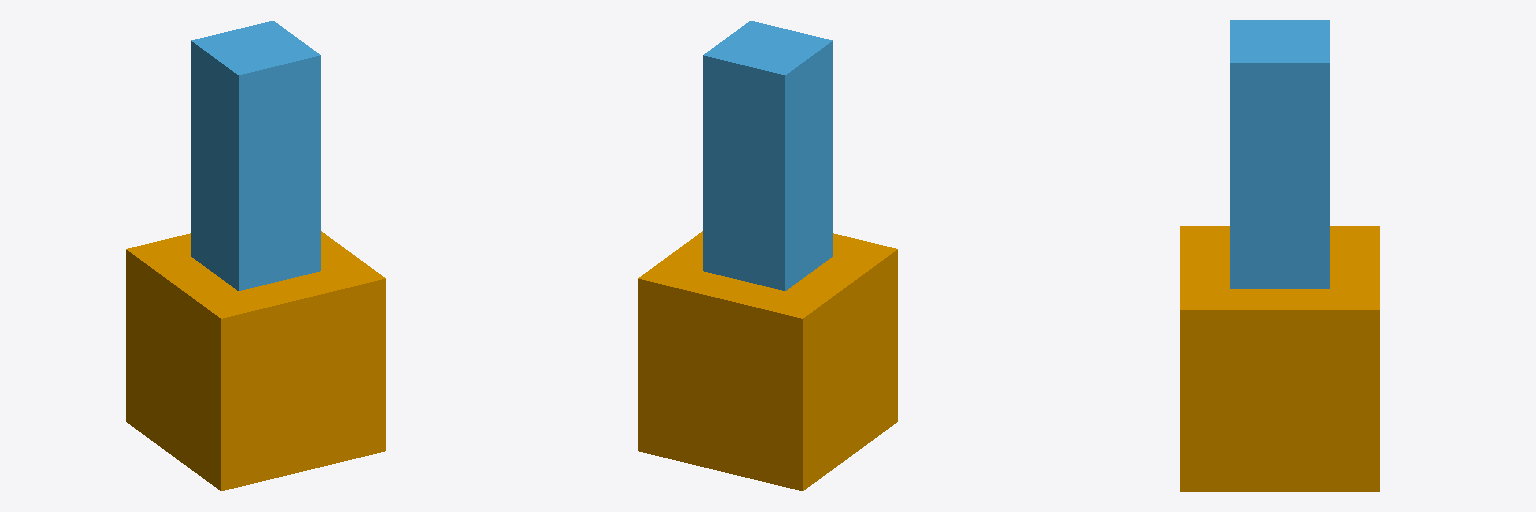
robot.urdf — motoman_motomini:
<?xml version="1.0"?>
<robot name="motoman_motomini" xmlns:xacro="http://wiki.ros.org/xacro"
    xmlns:tesseract="https://github.com/tesseract-robotics/tesseract" tesseract:make_convex="false">
    <link name="base_link">
        <visual>
            <origin rpy="0 0 0" xyz="0 0 0" />
            <geometry>
                <box size="0.1 0.1 0.1" />
            </geometry>
        </visual>
        <collision>
            <origin rpy="0 0 0" xyz="0 0 0" />
            <geometry>
                <box size="0.1 0.1 0.1" />
            </geometry>
        </collision>
    </link>

    <link name="link_1">
        <visual>
            <origin rpy="0 0 0" xyz="0 0 0" />
            <geometry>
                <box size="0.05 0.05 0.15" />
            </geometry>
        </visual>
        <collision>
            <origin rpy="0 0 0" xyz="0 0 0" />
            <geometry>
                <box size="0.05 0.05 0.15" />
            </geometry>
        </collision>
    </link>

    <joint name="joint_1" type="revolute">
        <parent link="base_link" />
        <child link="link_1" />
        <origin xyz="0 0 0.1" rpy="0 0 0" />
        <axis xyz="0 0 1" />
        <limit lower="-3.14159" upper="3.14159" effort="10" velocity="1.0" />
    </joint>
</robot>

--- Facts derived from the render (not from the file) ---
The picture shows the robot from 3 angles, left to right: view 1: azimuth 30°, elevation 25°; view 2: azimuth 150°, elevation 25°; view 3: azimuth 270°, elevation 25°; orthographic projection.
Model motoman_motomini with 2 links and 1 joints (1 revolute), rooted at base_link, posed every joint at zero.
Links seen in each view (by area): view 1: base_link, link_1; view 2: base_link, link_1; view 3: base_link, link_1.
Boxes of the visible links, x1,y1,x2,y2 form: base_link: [126, 231, 385, 490]; link_1: [191, 21, 320, 290]; base_link: [638, 231, 897, 490]; link_1: [703, 21, 832, 290]; base_link: [1180, 226, 1379, 491]; link_1: [1230, 20, 1329, 288].
Bounding box of the posed robot: 0.1 × 0.1 × 0.225 m (x, y, z).
Geometry: primitives only (box / cylinder / sphere), no mesh files.
